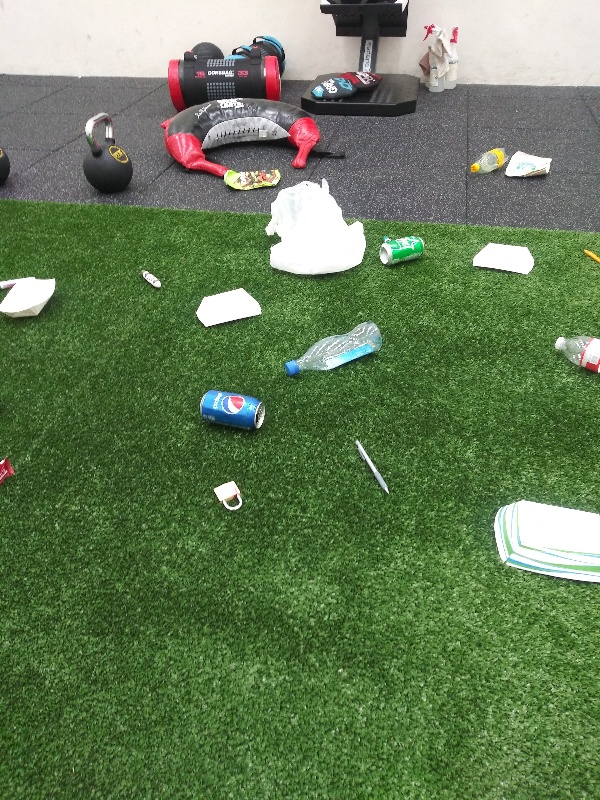bag: (502, 148, 559, 179), (219, 163, 284, 190)
bottle: (279, 318, 392, 382), (549, 331, 600, 379), (463, 142, 515, 178)
can: (192, 384, 271, 437), (376, 231, 429, 267)
plate: (491, 495, 600, 586), (194, 283, 268, 333), (1, 274, 62, 323), (467, 240, 538, 280)
